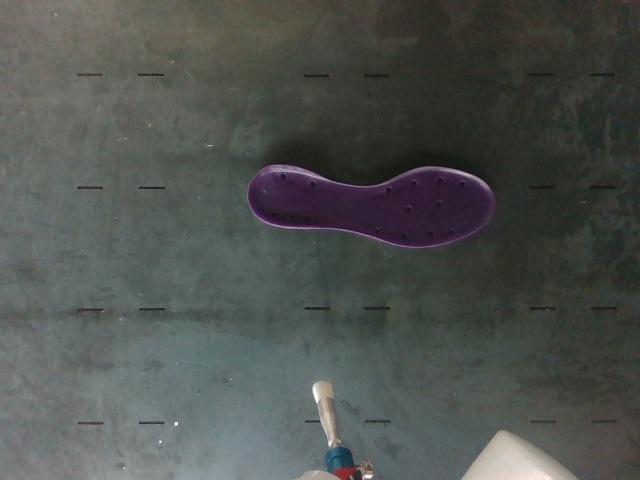shoes: (248, 163, 495, 247)
